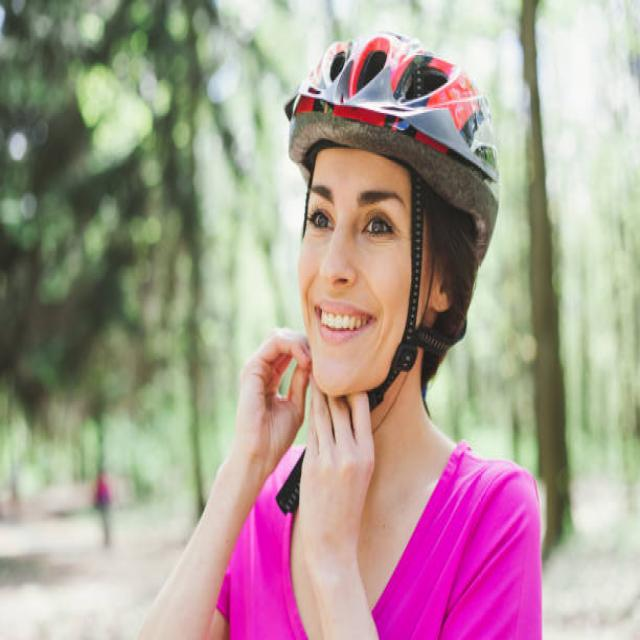Helmet: (279, 27, 503, 416)
